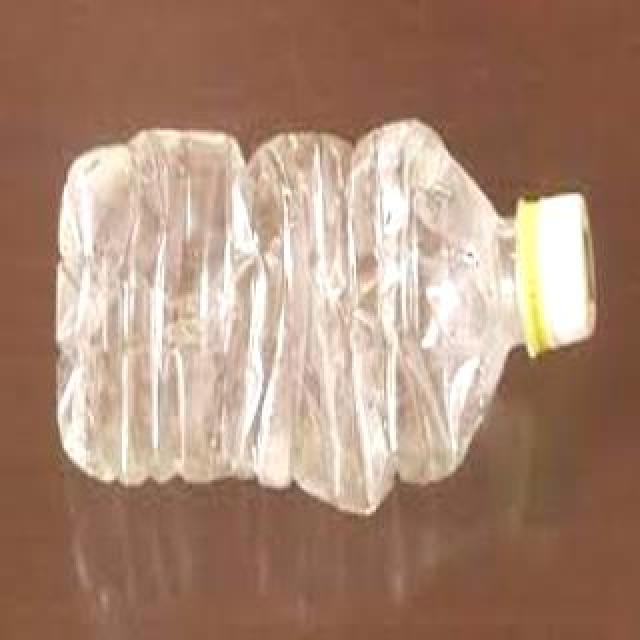Pet_Bottle: (52, 102, 600, 518)
